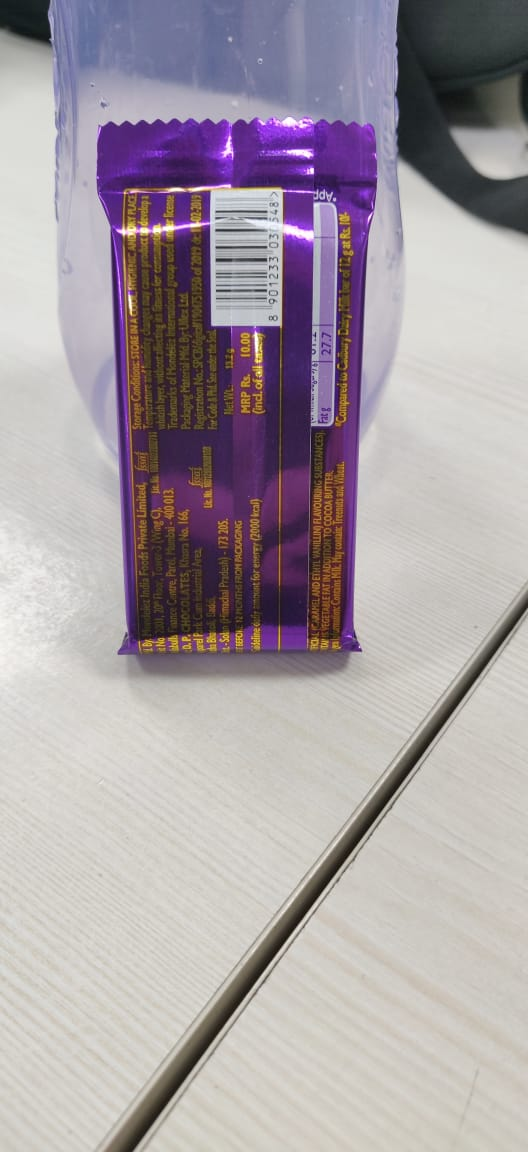dairy milk: (89, 113, 398, 691)
